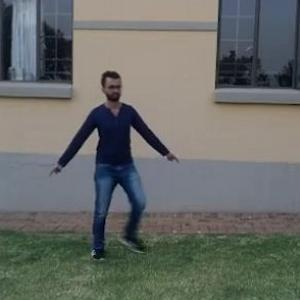land: (45, 71, 169, 244)
